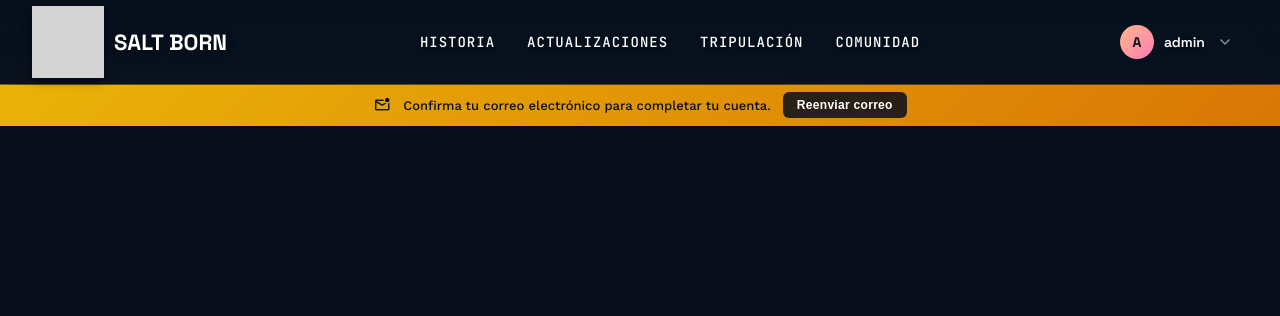
Test case: Navbar › muestra enlace de Estadísticas solo para admin
Step 1. Click the button named "Menú de usuario" → (1180, 42), box x1=1113 y1=18 x2=1248 y2=66
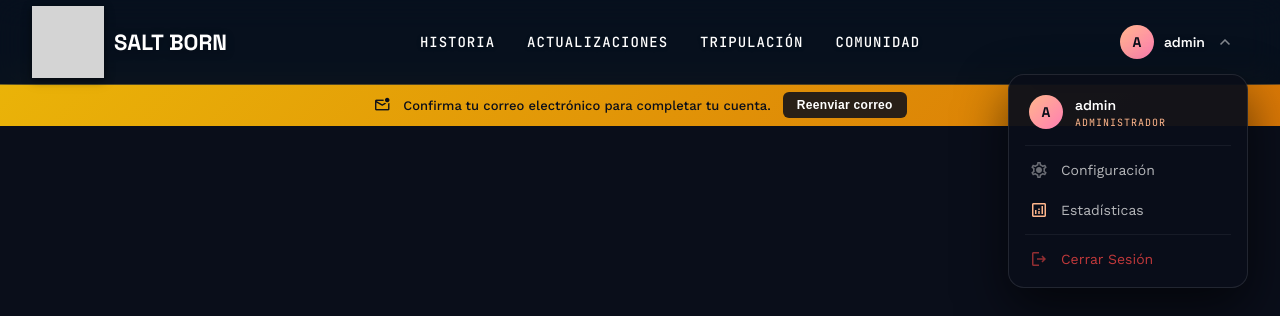
expect the link "Estadísticas" is shown: met, box x1=1029 y1=198 x2=1144 y2=222
